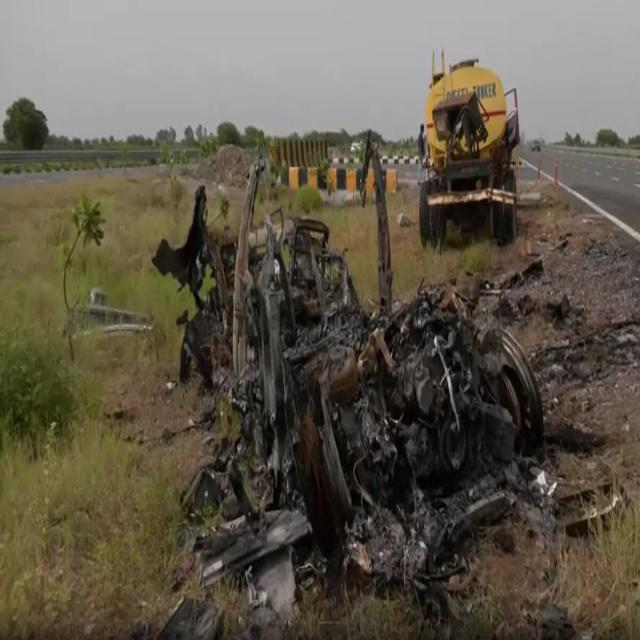accident: (155, 193, 555, 606)
truck: (419, 57, 520, 247)
